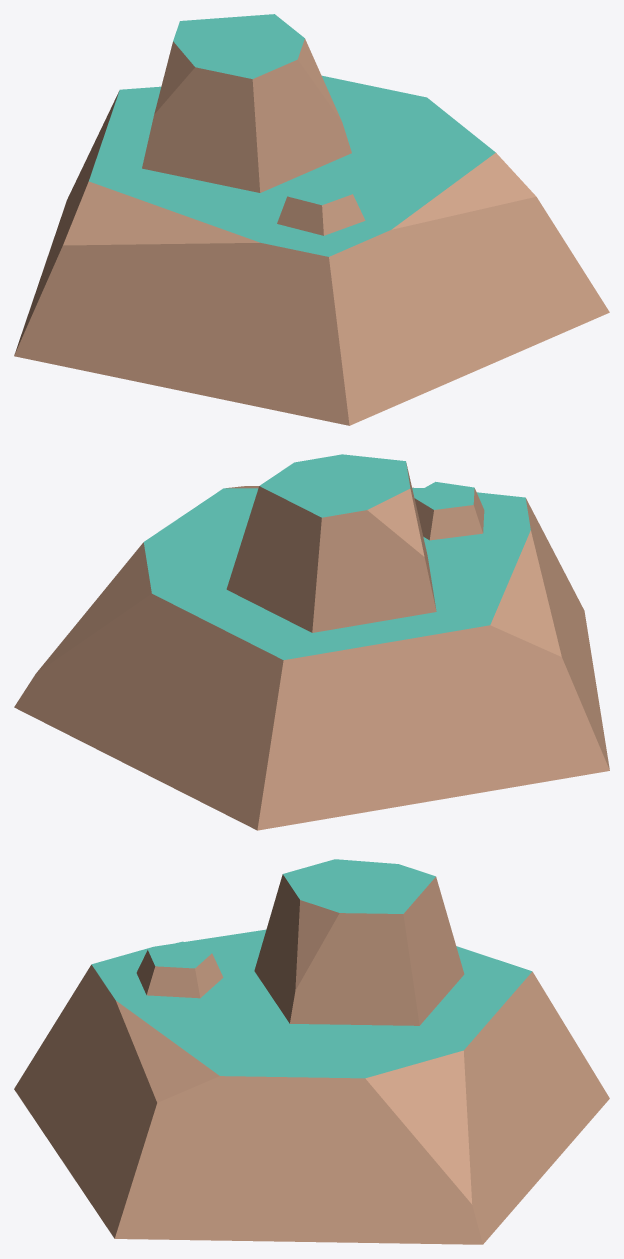
Rendered from rock_smallTopB.glb.
3 views of the same model, one above another, from view 1: azimuth 30°, elevation 25°; view 2: azimuth 150°, elevation 25°; view 3: azimuth 270°, elevation 25° (orthographic). The views are drawn at different scales.
Visible parts, largest first — view 1: rock_smallTopB; view 2: rock_smallTopB; view 3: rock_smallTopB.
Part boxes in pixels (x1,y1,x2,y2): rock_smallTopB: (14, 14, 609, 425); rock_smallTopB: (14, 454, 609, 830); rock_smallTopB: (14, 859, 609, 1244).
Bounding box in the file's own units: 0.6221 × 0.28 × 0.6463.
